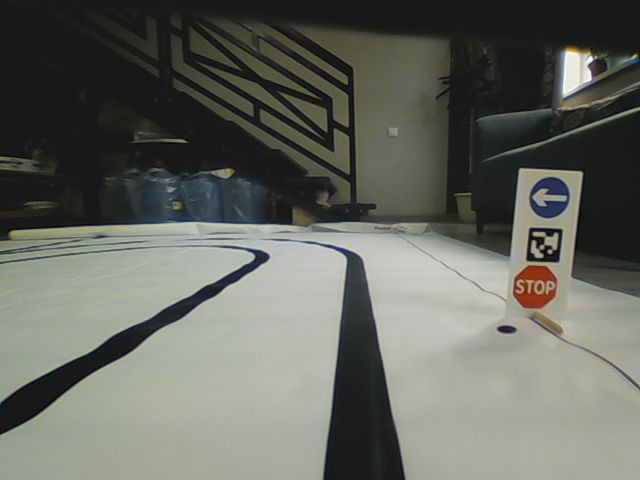Stop: (510, 265, 559, 309)
